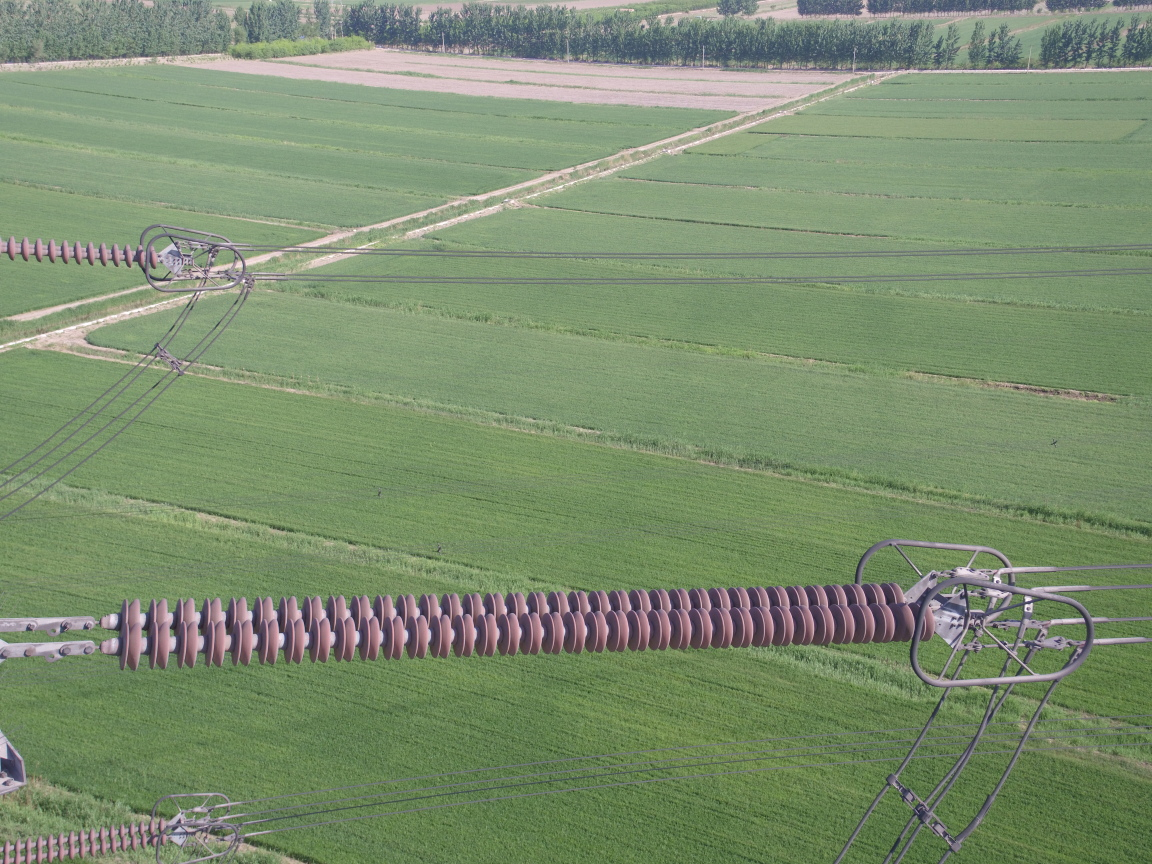insulator: (51, 574, 954, 673), (1, 230, 170, 271)
